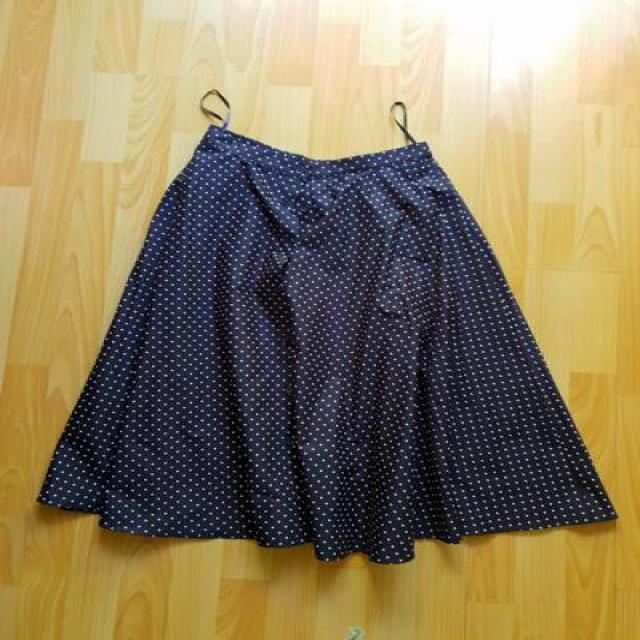Clothes -Biodegradable-: (37, 128, 619, 564)
